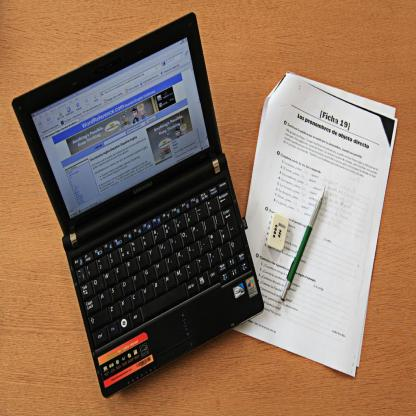board: (11, 11, 265, 398)
